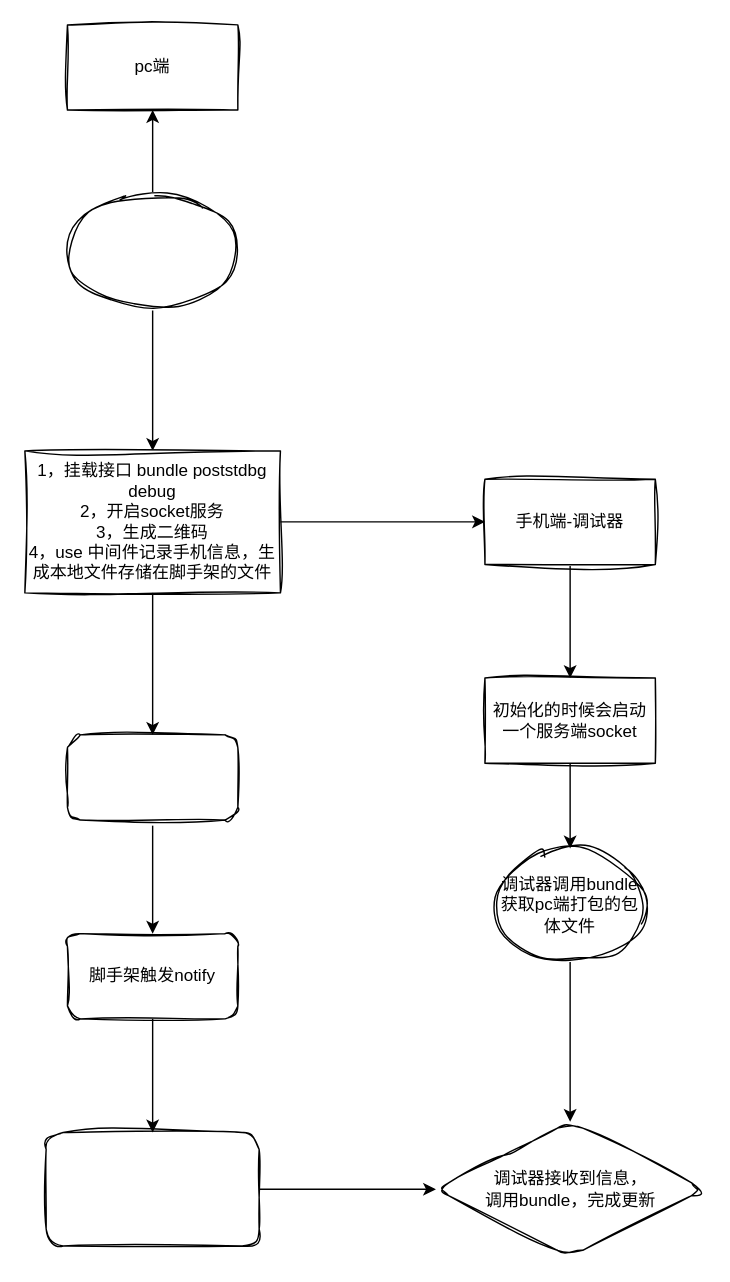
Some shapes in this 730 by 1282 pixel diagram are drawn without their labels. Here are the shapes that lost their labels. From the top down, the centre of each, then its label:
At pixel 152 251: "npm run serve".
At pixel 152 776: "包体有更新".
At pixel 152 1188: "读取存取的文件 手机的IP地址 发送http请求ip：39517/update".
